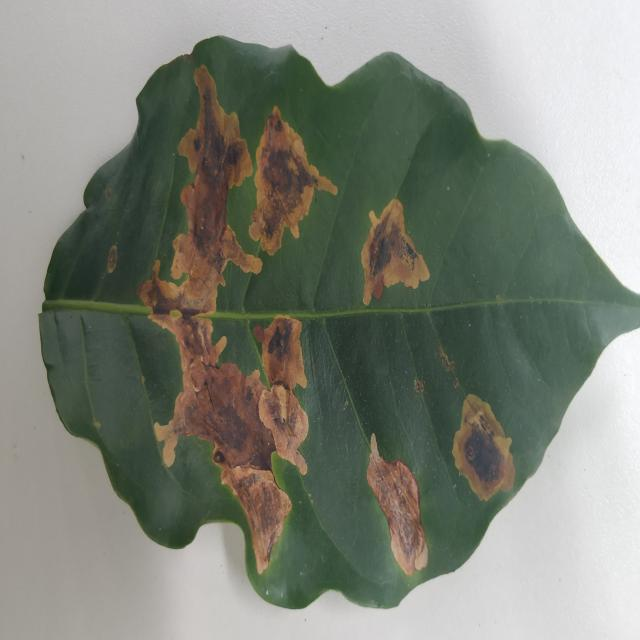Plaga-Minador: (37, 37, 640, 613)
